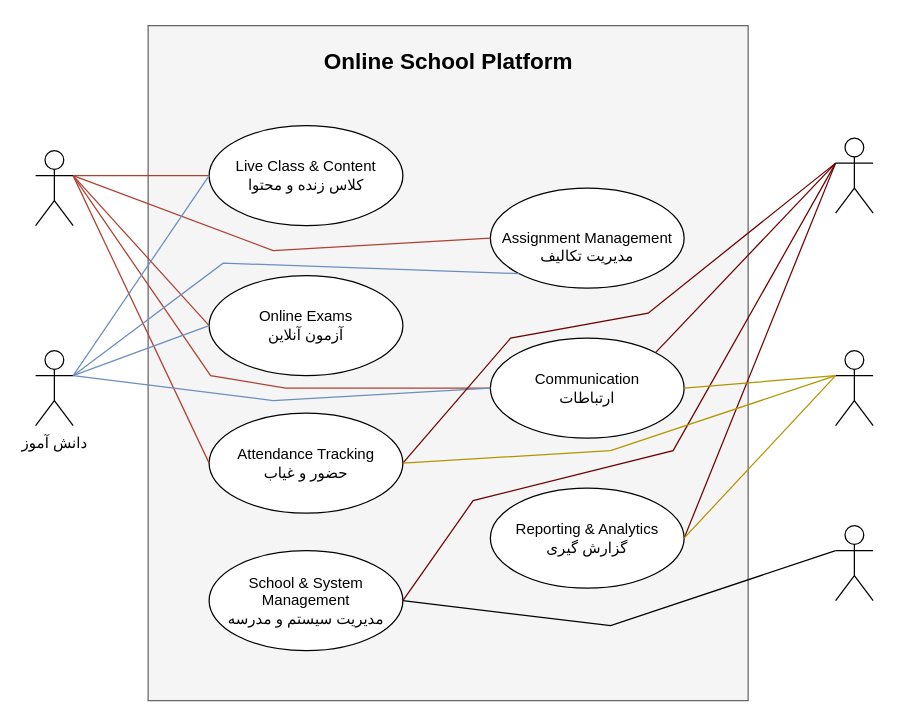
Some shapes in this 914 by 723 pixel diagram are drawn without their labels. Each missing label, with the centre of its shape:
"مدیر سیستم" goes at [853,562].
"مدیر مدرسه" goes at [853,175].
"معلم" goes at [53,187].
"والدین" goes at [853,387].
